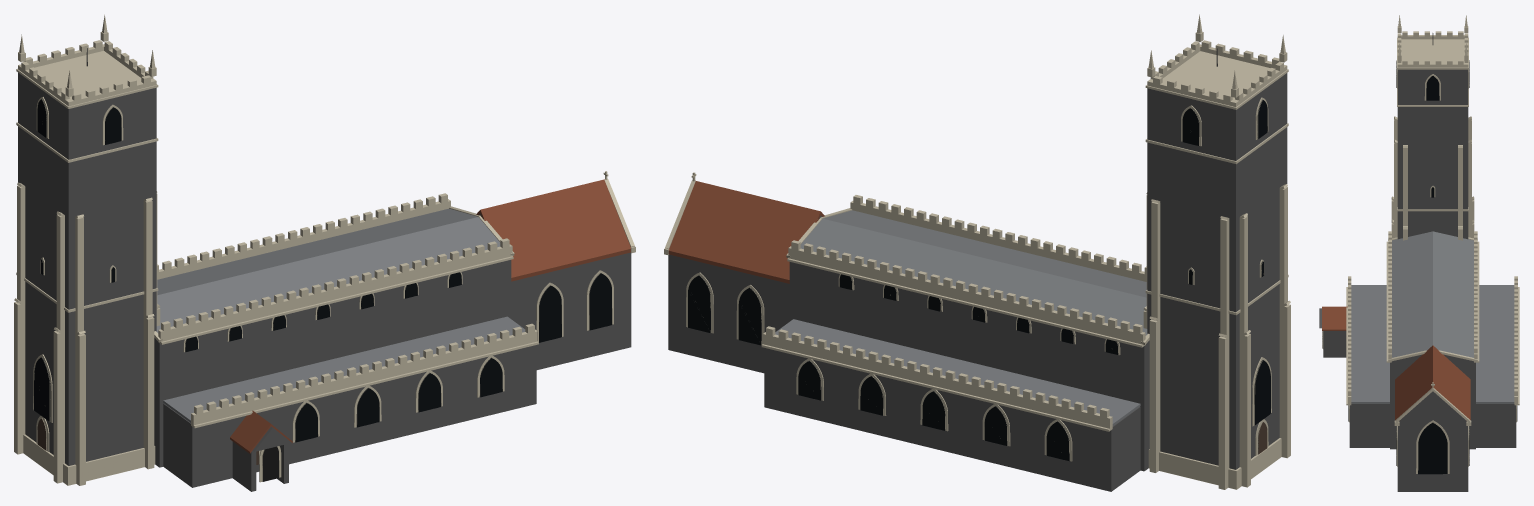
Rendered from context.church.ea_wool.glb.
3 views of the same model, side by side, from view 1: azimuth 30°, elevation 25°; view 2: azimuth 150°, elevation 25°; view 3: azimuth 270°, elevation 25° (orthographic). The views are drawn at different scales.
Parts seen in each view (by area): view 1: main__stone_555, main__stone_cba, main__clad_778, main__clad_843, main__glass_dark, main__stone_987; view 2: main__stone_555, main__stone_cba, main__clad_778, main__clad_843, main__glass_dark, main__stone_987; view 3: main__stone_555, main__clad_778, main__stone_cba, main__clad_843, main__glass_dark.
Boxes of the visible parts, left/top/right/bottom form: main__stone_555: left=18, top=72, right=631, bottom=491; main__stone_cba: left=14, top=14, right=635, bottom=485; main__clad_778: left=156, top=208, right=525, bottom=422; main__clad_843: left=230, top=179, right=631, bottom=453; main__glass_dark: left=34, top=99, right=612, bottom=442; main__stone_987: left=33, top=99, right=612, bottom=481; main__stone_555: left=668, top=73, right=1287, bottom=491; main__stone_cba: left=664, top=14, right=1290, bottom=489; main__clad_778: left=775, top=210, right=1147, bottom=425; main__clad_843: left=668, top=180, right=824, bottom=283; main__glass_dark: left=688, top=100, right=1270, bottom=461; main__stone_987: left=687, top=100, right=1270, bottom=455; main__stone_555: left=1319, top=69, right=1516, bottom=491; main__clad_778: left=1351, top=231, right=1514, bottom=403; main__stone_cba: left=1323, top=15, right=1519, bottom=473; main__clad_843: left=1322, top=306, right=1470, bottom=420; main__glass_dark: left=1348, top=60, right=1517, bottom=474.
Size of the model in its own units: 45.57 by 31.47 by 19.83.
